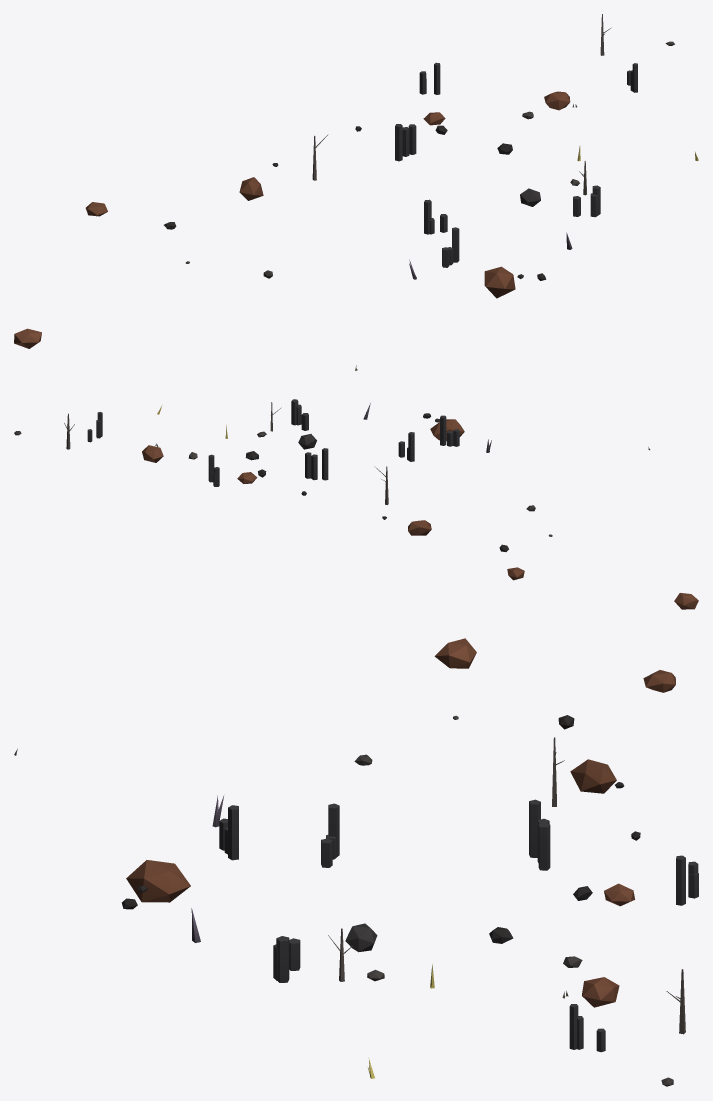
The model's file is ash_land_scatter_c14_30_lod1.glb.
3 renders of one model, top to bottom at view 1: azimuth 30°, elevation 25°; view 2: azimuth 150°, elevation 25°; view 3: azimuth 270°, elevation 25°, orthographic. The views are drawn at different scales.
Visible parts, largest first — view 1: ash_land_scatter_c14_30_lod1; view 2: ash_land_scatter_c14_30_lod1; view 3: ash_land_scatter_c14_30_lod1.
Boxes of the visible parts, left/top/right/bottom form: ash_land_scatter_c14_30_lod1: left=14, top=14, right=698, bottom=370; ash_land_scatter_c14_30_lod1: left=14, top=399, right=698, bottom=609; ash_land_scatter_c14_30_lod1: left=14, top=638, right=698, bottom=1086.
Bounding box in the file's own units: 107 × 16.99 × 56.18.
